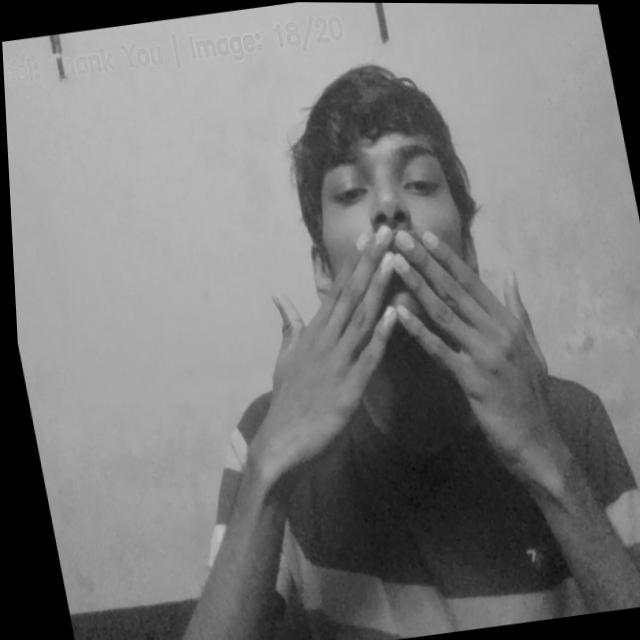Thank You: (227, 198, 573, 498)
